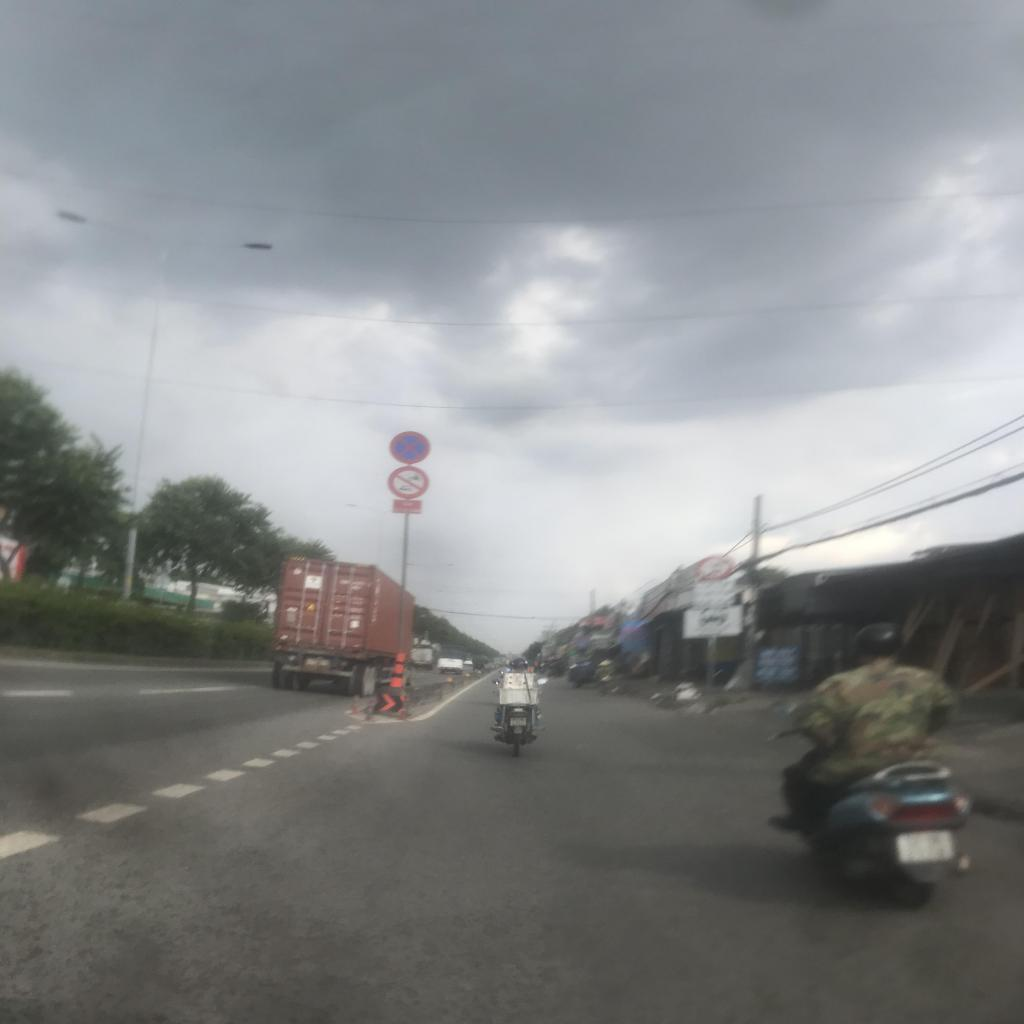cam_dung_xe_va_do_xe: (388, 429, 430, 464)
cam_xe_2_banh_va_xe_3_banh_co_dong_co: (386, 466, 429, 499)
